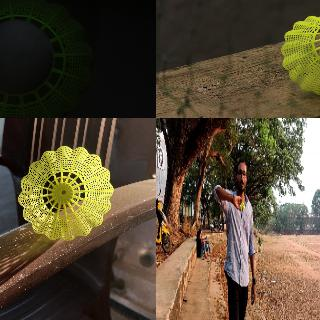shuttlecock: (0, 0, 94, 117), (18, 146, 112, 240), (281, 13, 319, 95), (240, 202, 244, 210)
